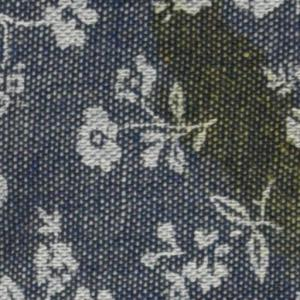Oil Stain: (147, 1, 300, 285)
